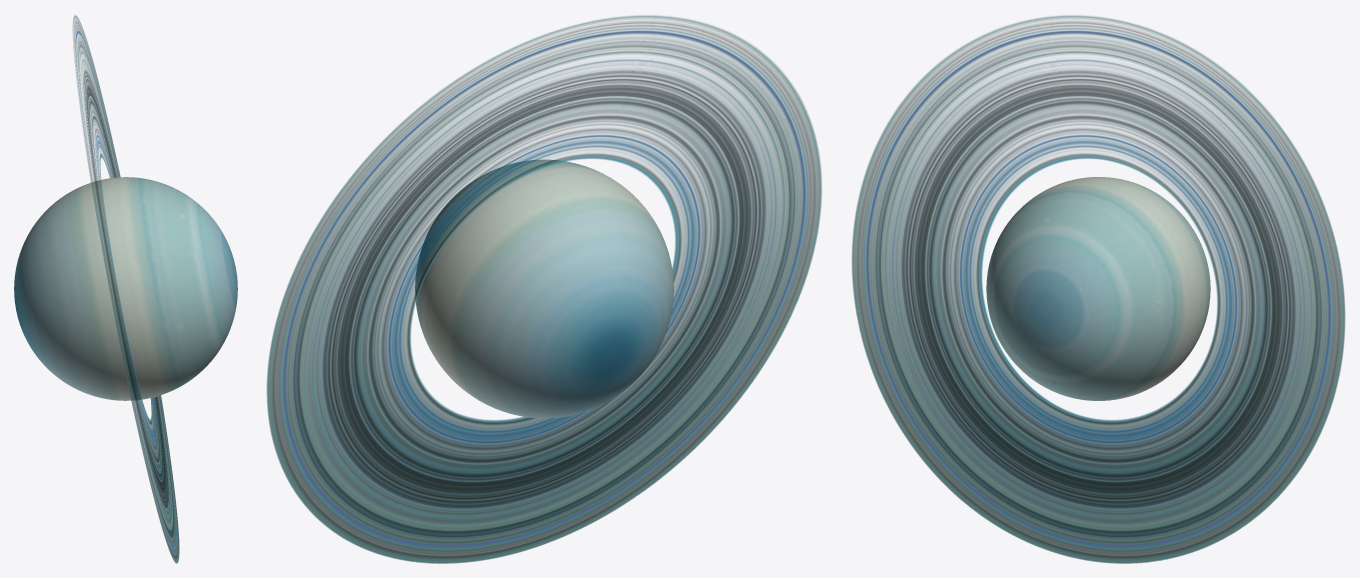
Rendered from Uranus.glb.
The picture shows the model from 3 angles, left to right: view 1: azimuth 30°, elevation 25°; view 2: azimuth 150°, elevation 25°; view 3: azimuth 270°, elevation 25°; orthographic projection. The views are drawn at different scales.
Parts seen in each view (by area): view 1: Uranus, Circle; view 2: Circle, Uranus; view 3: Circle, Uranus.
Boxes of the visible parts, box(x1,y1,x2,y2) form: Uranus: box(14, 177, 237, 400); Circle: box(72, 15, 179, 563); Circle: box(266, 15, 821, 563); Uranus: box(415, 159, 673, 418); Circle: box(852, 15, 1345, 563); Uranus: box(986, 177, 1210, 400).
Size of the model in its own units: 2.54 by 4.91 by 4.41.
2 materials, 2 textured.
